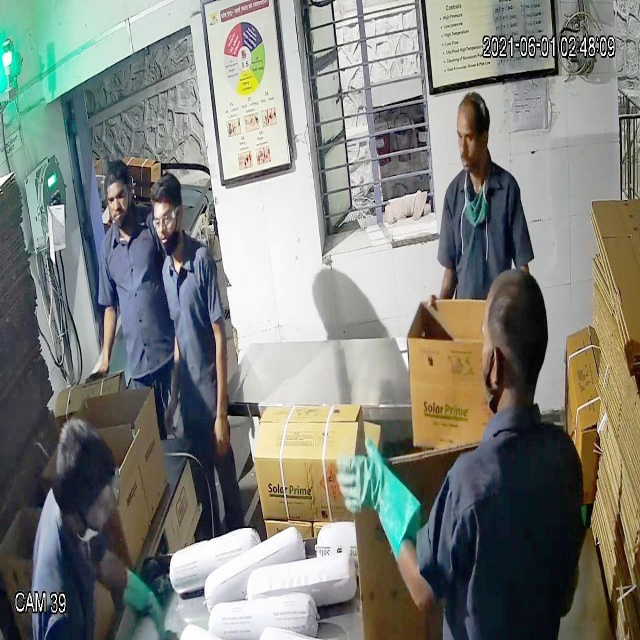Gafas: (152, 206, 184, 235)
Sin_gafas: (450, 122, 494, 156), (105, 181, 133, 209)
